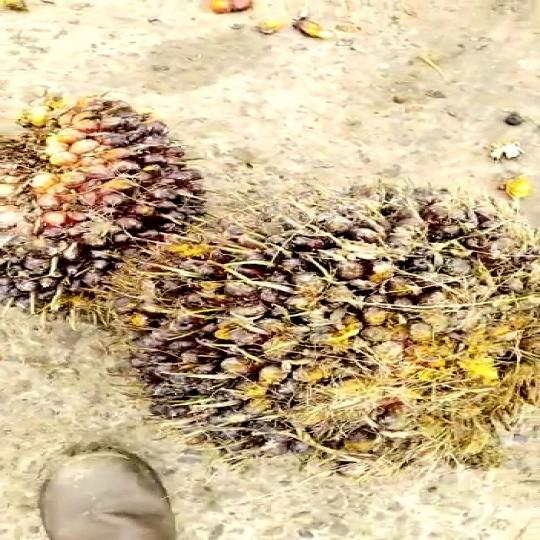kurang masak: (111, 191, 540, 492), (0, 98, 215, 299)
